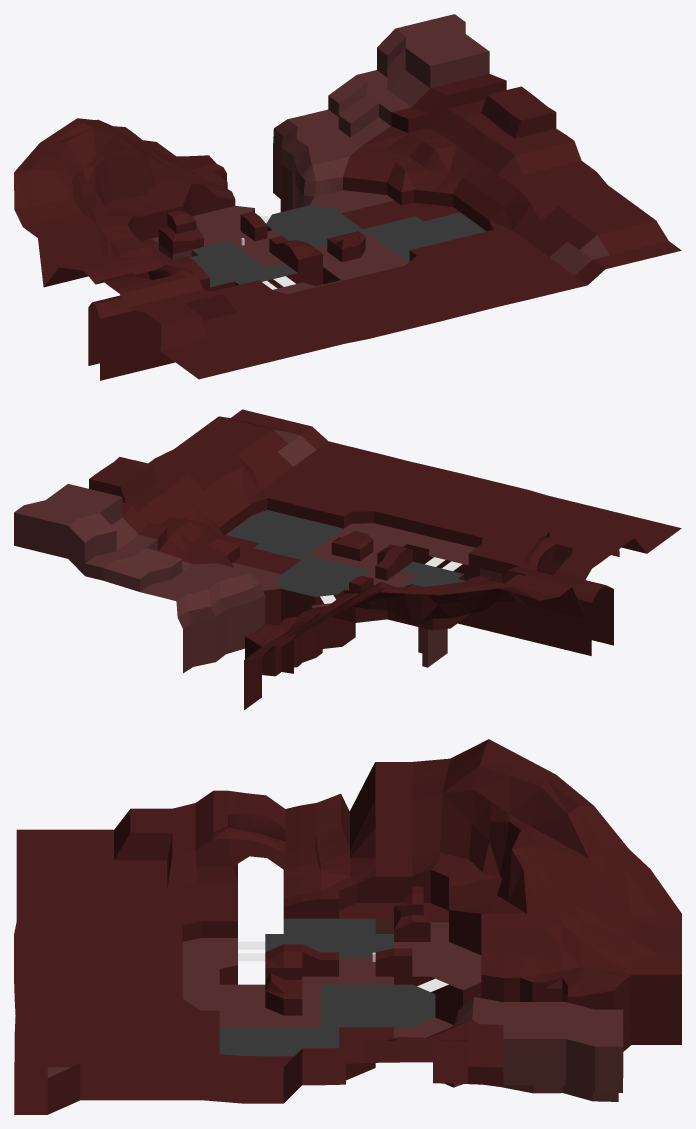
Rendered from Level1.FBX.
The picture shows the model from 3 angles, top to bottom: view 1: azimuth 30°, elevation 25°; view 2: azimuth 150°, elevation 25°; view 3: azimuth 270°, elevation 25°; orthographic projection. The views are drawn at different scales.
Parts seen in each view (by area): view 1: Level1; view 2: Level1; view 3: Level1.
Boxes of the visible parts, left/top/right/bottom form: Level1: left=14, top=14, right=681, bottom=380; Level1: left=14, top=409, right=681, bottom=710; Level1: left=14, top=739, right=681, bottom=1114.
Size of the model in its own units: 16626 by 4090 by 14550.
